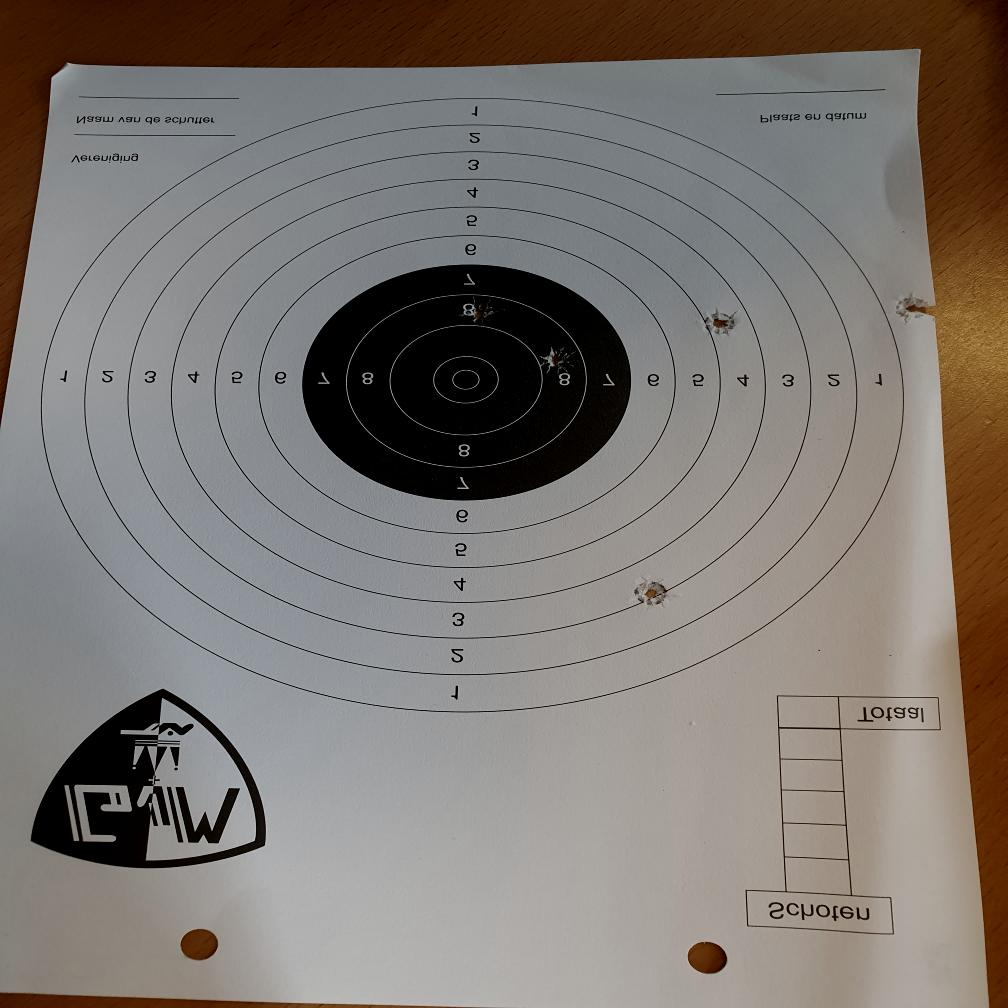0: (891, 290, 933, 322)
3: (628, 576, 677, 613)
5: (700, 306, 742, 345)
8: (458, 301, 506, 332), (537, 344, 583, 373)
Target: (40, 101, 906, 710)
black_contour: (302, 264, 632, 500)
